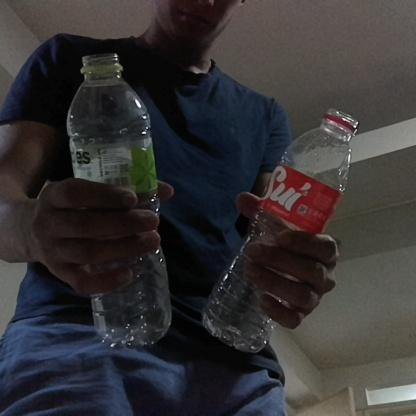plastic_bottles: (208, 106, 358, 354), (66, 51, 177, 349)
